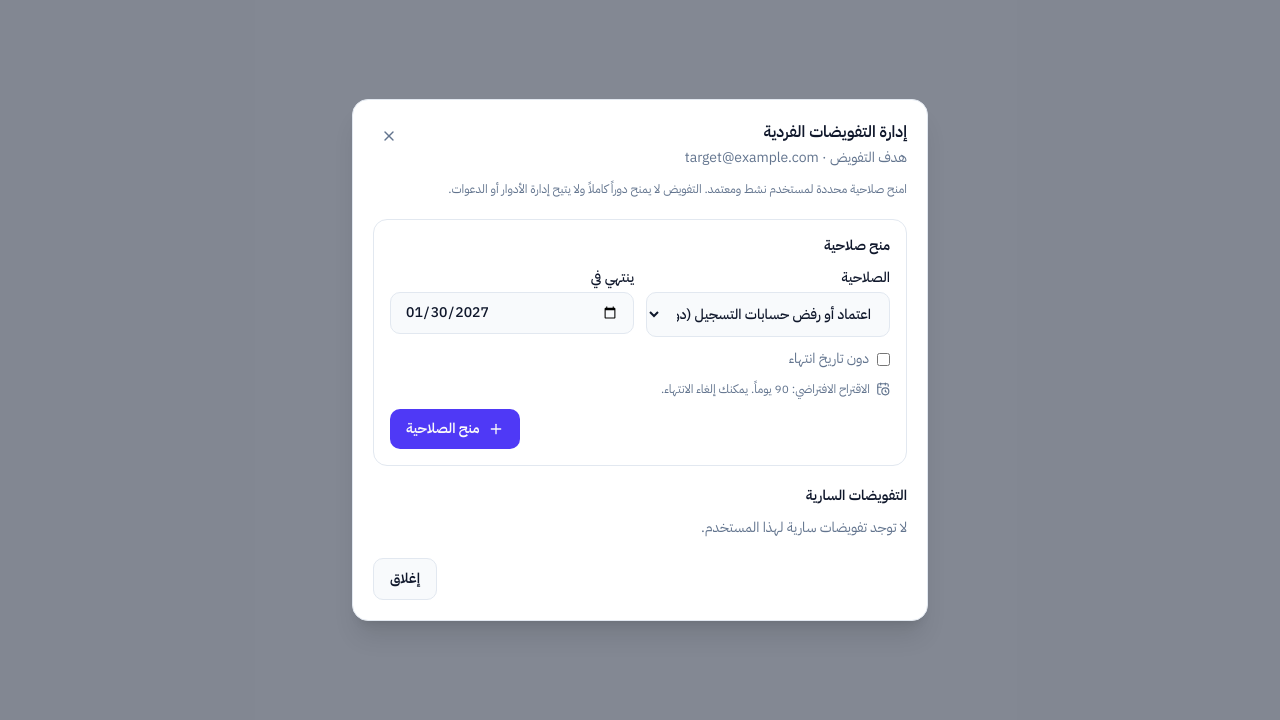
Test: DelegationDialog › offers exactly the owner-flagged delegatable permissions
Expected: the dialog "إدارة التفويضات الفردية" is shown, [352,99,928,621]
Select "الإعدادات الإدارية العامة" in the dropdown labelled "الصلاحية": (768, 315) [646,292,890,337]
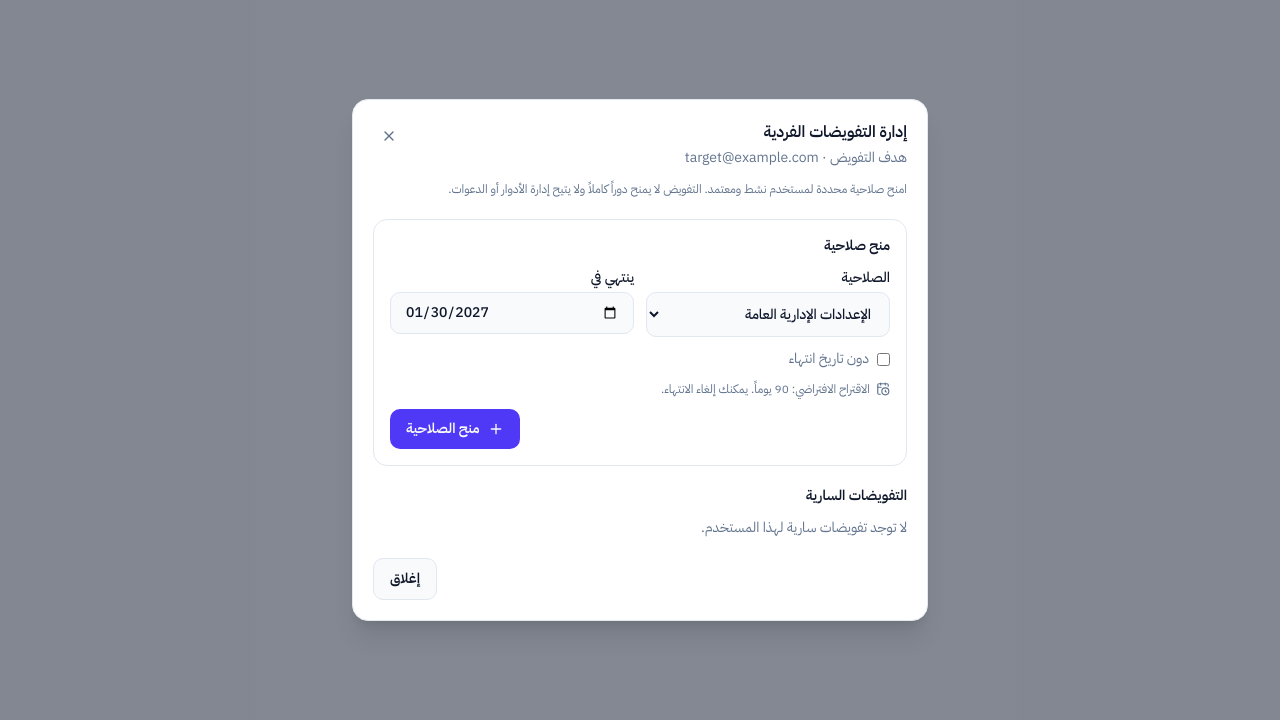
Click the checkbox labelled "دون تاريخ انتهاء": (884, 359) [877,353,890,366]
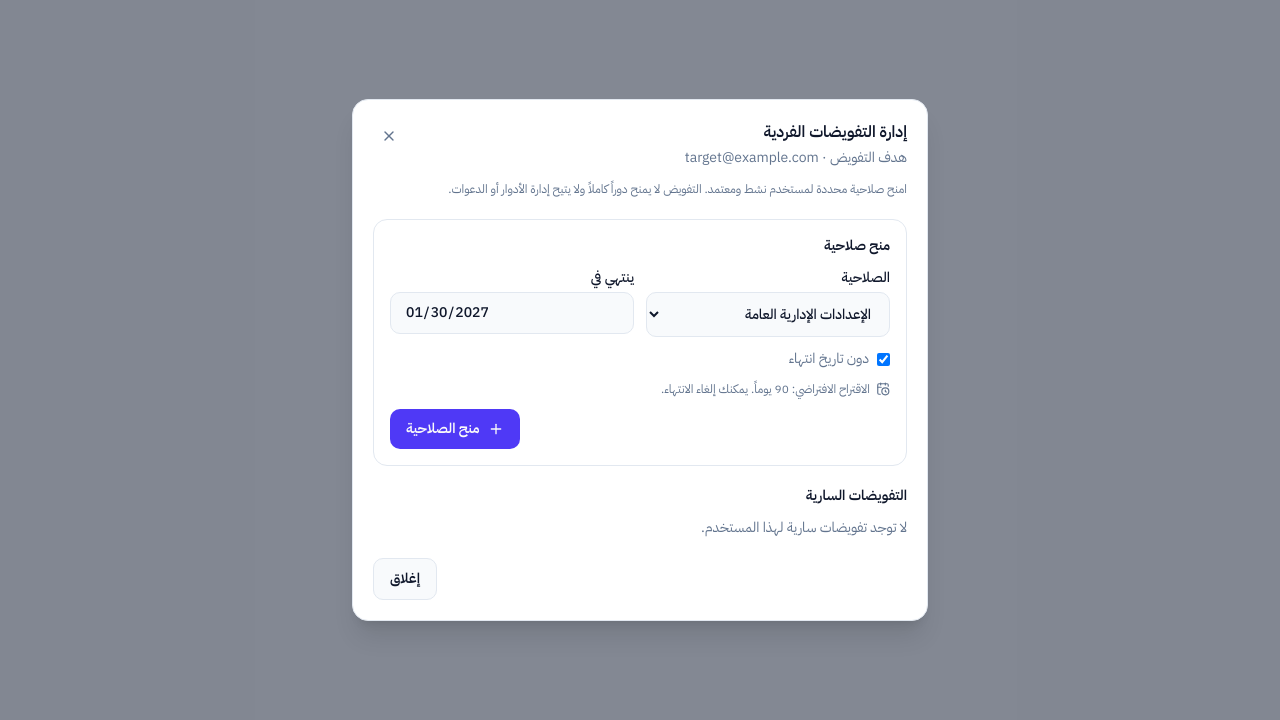
Click the button "منح الصلاحية": (455, 429) [390,409,520,449]
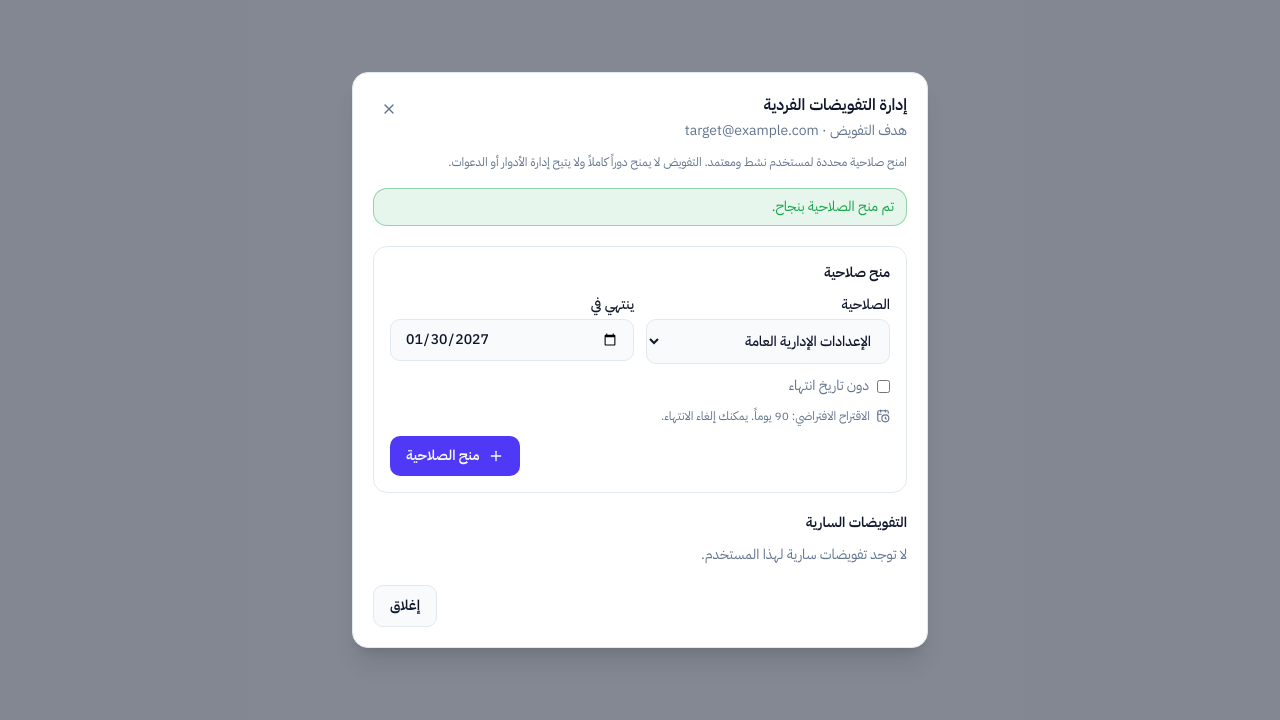
Expected: the text "تم منح الصلاحية بنجاح." is shown, [373,188,907,226]
